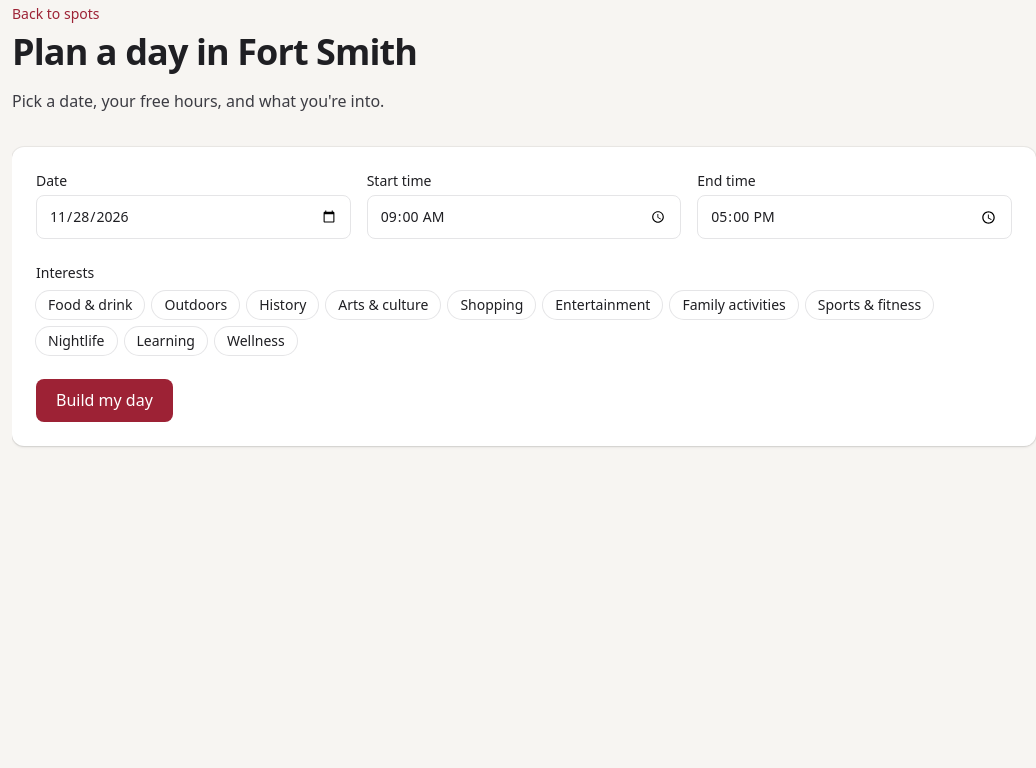
Test case: when the AI is down, builds the backup plan and says so
What coordinates should you click on to do the following:
click the button "History"
I would click on:
 (283, 305)
Its box is [247, 291, 318, 319].
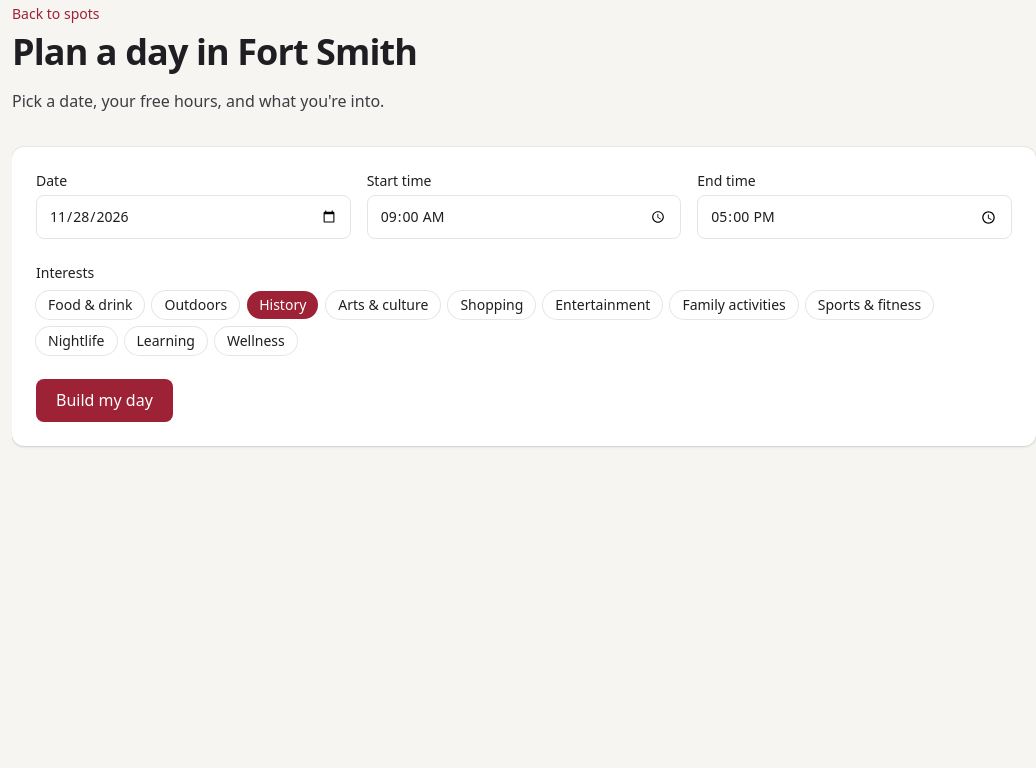
What coordinates should you click on to do the following:
click the button "Build my day"
I would click on:
 (104, 401)
Its box is [36, 379, 173, 422].
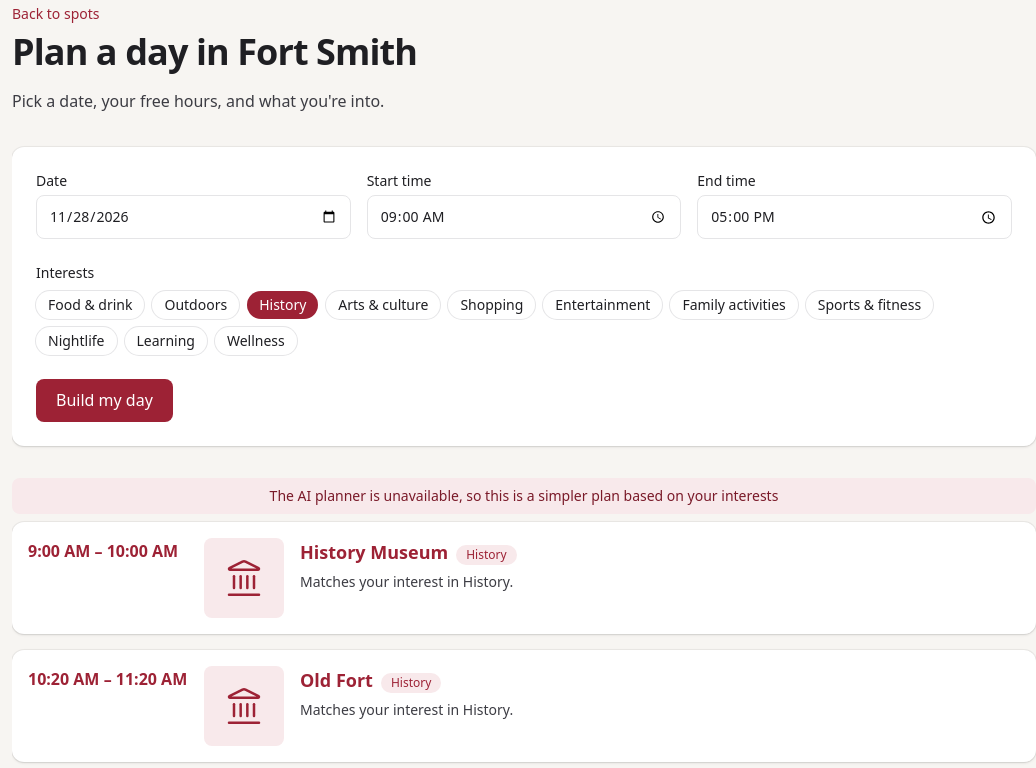
Now the text "AI planner is unavailable" is shown, box [270, 486, 778, 505]
Now the link "History Museum" is shown, box [300, 540, 448, 564]
Now the text "9:00 AM – 10:00 AM" is shown, box [28, 540, 178, 562]
